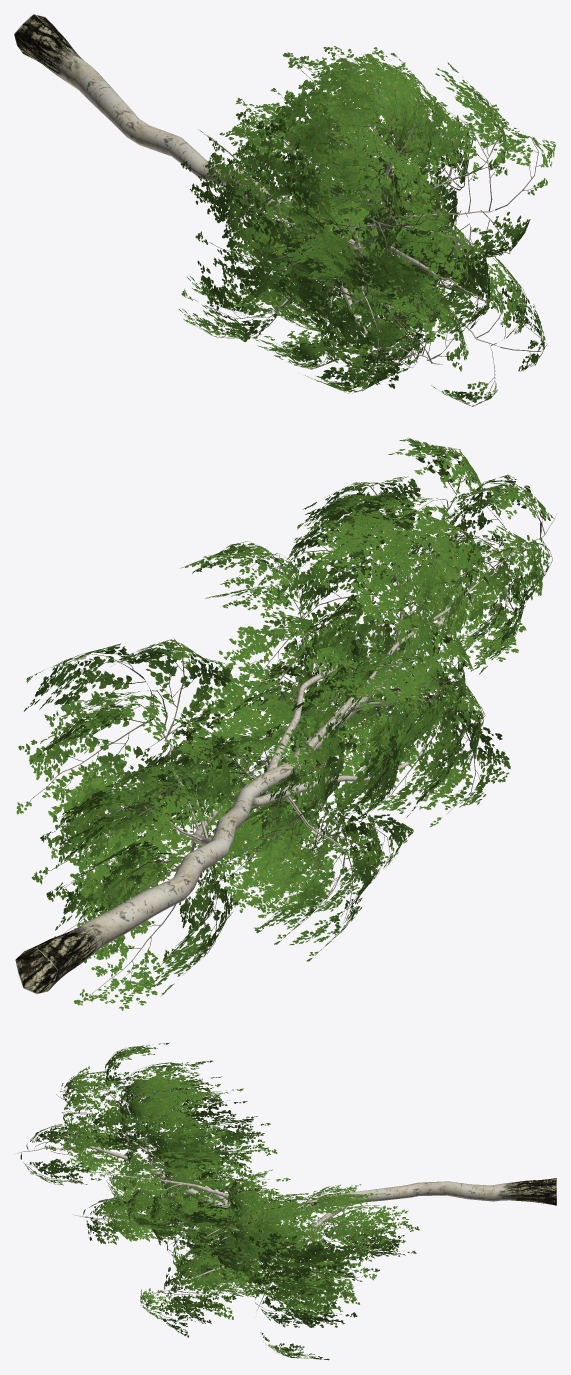
The model's file is tree_birch.glb.
3 renders of one model, top to bottom at view 1: azimuth 30°, elevation 25°; view 2: azimuth 150°, elevation 25°; view 3: azimuth 270°, elevation 25°, orthographic. The views are drawn at different scales.
Size of the model in its own units: 5.24 by 6.4 by 11.79.
Materials: 2 (2 with a texture image).
